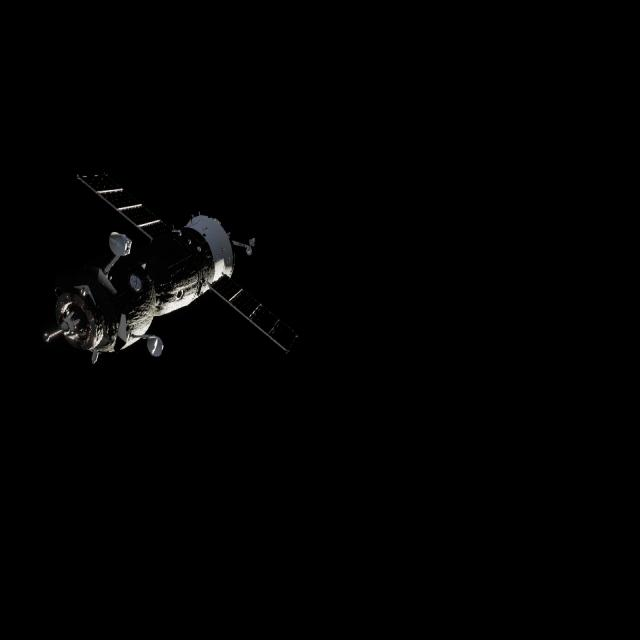Satellites revolving around earth: (42, 166, 300, 368)
